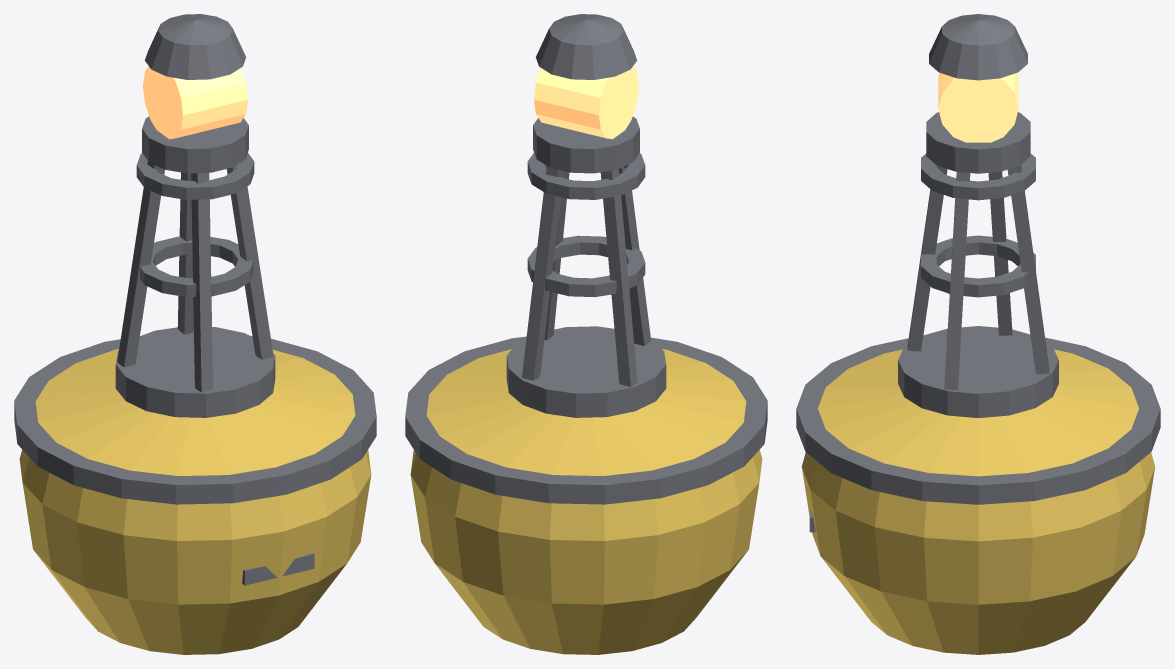
The model's file is animated-mechanisms-kit-buoy-bob-89a688d9__24653.glb.
The picture shows the model from 3 angles, left to right: view 1: azimuth 30°, elevation 25°; view 2: azimuth 150°, elevation 25°; view 3: azimuth 270°, elevation 25°; orthographic projection.
Visible parts, largest first — view 1: buoy/accent, buoy/iron, buoy/signal; view 2: buoy/accent, buoy/iron, buoy/signal; view 3: buoy/accent, buoy/iron, buoy/signal.
Part boxes in pixels (x1,y1,x2,y2): buoy/accent: (19,349,371,654); buoy/iron: (14,14,376,585); buoy/signal: (143,66,247,139); buoy/accent: (410,349,762,654); buoy/iron: (405,14,767,504); buoy/signal: (534,66,638,139); buoy/accent: (801,349,1155,654); buoy/iron: (796,14,1160,532); buoy/signal: (938,72,1018,142).
Bounding box in the file's own units: 1.36 × 2.54 × 1.36.
